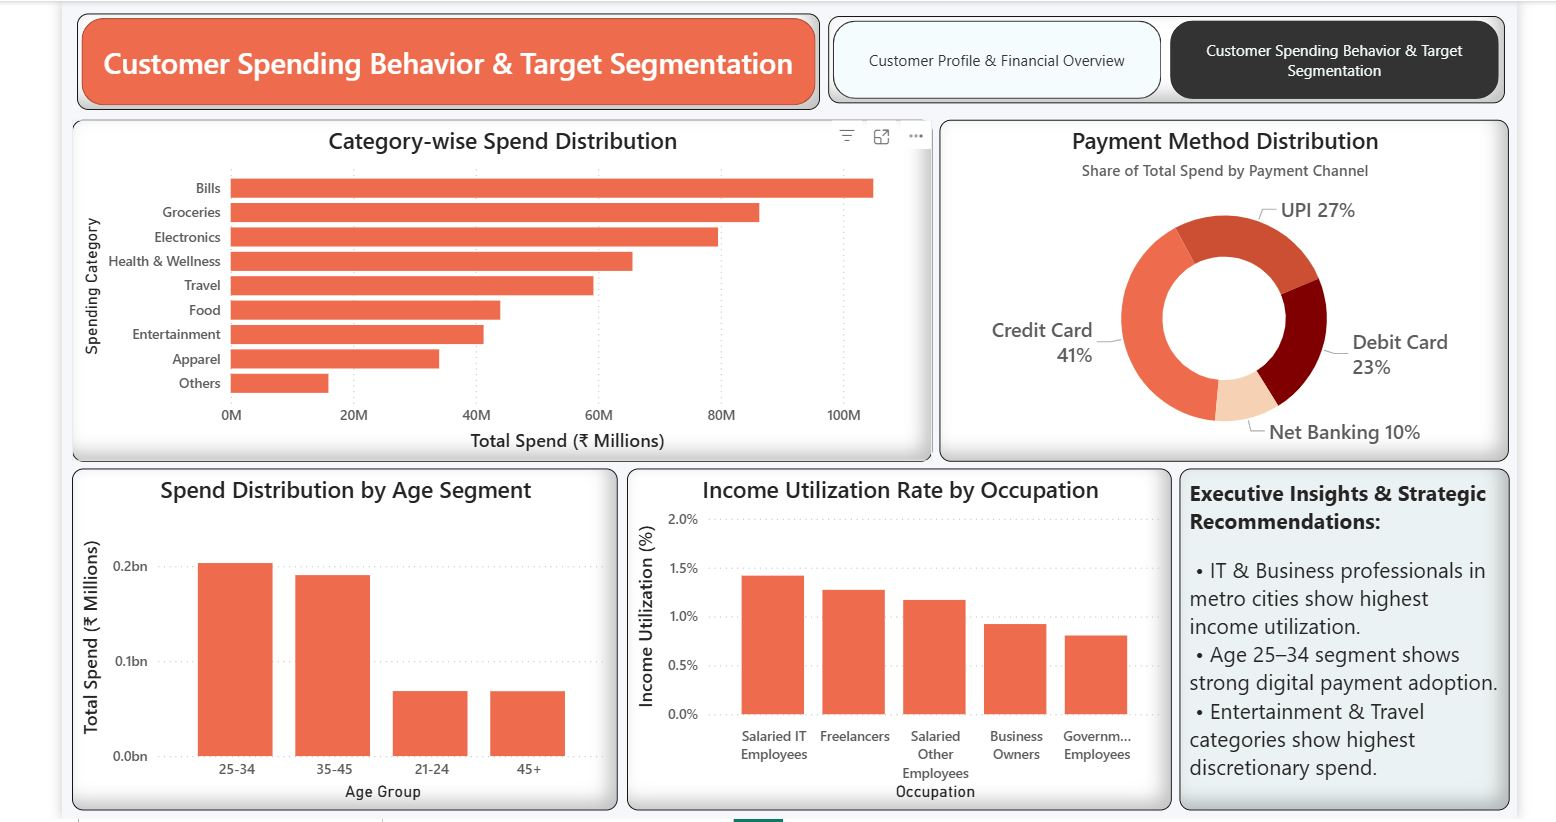

The dashboard page shown, as its layout file describes it:
{"tool":"powerbi","page":{"name":"Customer Spending Behavior & Target Segmentation","canvas":[1280,720],"ordinal":1},"visuals":[{"type":"barChart","title":"Category-wise Spend Distribution","fields":{"Category":["fact_spends.category"],"Y":["fact_spends.Total Spend"]},"box":[8.6,104.2,756.5,301],"z":0},{"type":"donutChart","title":"Payment Method Distribution","fields":{"Category":["fact_spends.payment_type"],"Y":["fact_spends.Total Spend"]},"box":[772.2,104.2,501,301.2],"z":1000},{"type":"columnChart","title":"Spend Distribution by Age Segment","fields":{"Y":["fact_spends.Total Spend"],"Category":["dim_customers.age_group"]},"box":[8.6,411.1,480,301],"z":2000},{"type":"columnChart","title":"Income Utilization Rate by Occupation","fields":{"Category":["dim_customers.occupation"],"Y":["dim_customers.Income Utilization %"]},"box":[496.7,411.1,479.6,301.2],"z":3000},{"type":"textbox","box":[983.4,411.1,290,301.2],"z":4000},{"type":"pageNavigator","box":[674,13.6,595.4,77.1],"z":5000},{"type":"shape","box":[13.3,10.9,653.7,84.7],"z":6000}]}

Visuals, with their boxes in screenshot pixels (x1, y1, x2, y2):
"Category-wise Spend Distribution" barChart: 79,117,931,457
"Payment Method Distribution" donutChart: 939,117,1503,457
"Spend Distribution by Age Segment" columnChart: 79,463,619,802
"Income Utilization Rate by Occupation" columnChart: 629,463,1169,803
textbox: 1177,463,1504,803
pageNavigator: 828,15,1499,102
shape: 84,12,820,108
